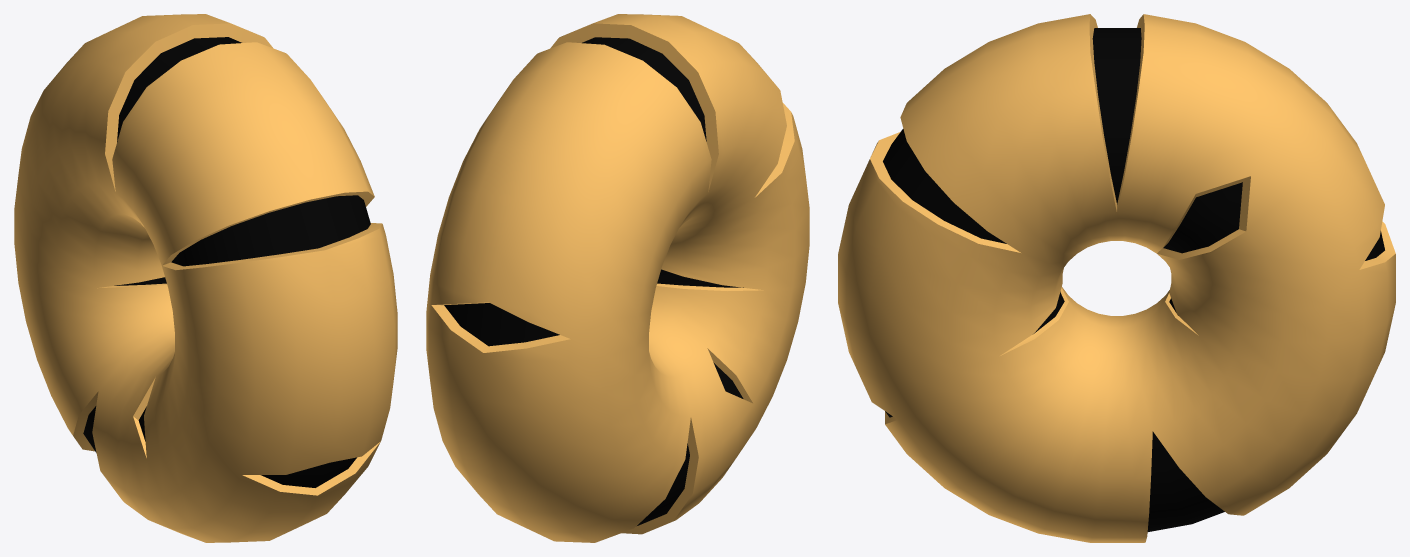
The model's file is Worm Back.fbx.
3 views of the same model, side by side, from view 1: azimuth 30°, elevation 25°; view 2: azimuth 150°, elevation 25°; view 3: azimuth 270°, elevation 25° (orthographic). The views are drawn at different scales.
Visible parts, largest first — view 1: Circle; view 2: Circle; view 3: Circle.
Boxes of the visible parts, x1,y1,x2,y2 form: Circle: [14, 14, 397, 542]; Circle: [426, 14, 809, 542]; Circle: [838, 14, 1395, 542].
Bounding box in the file's own units: 313 × 748 × 748.
